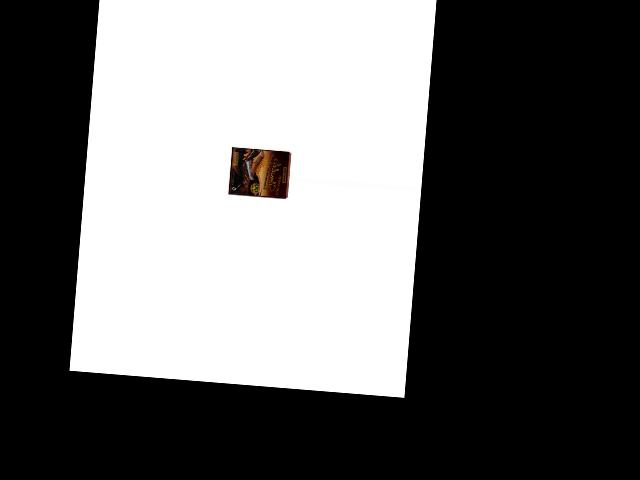chocolate: (228, 147, 291, 199)
